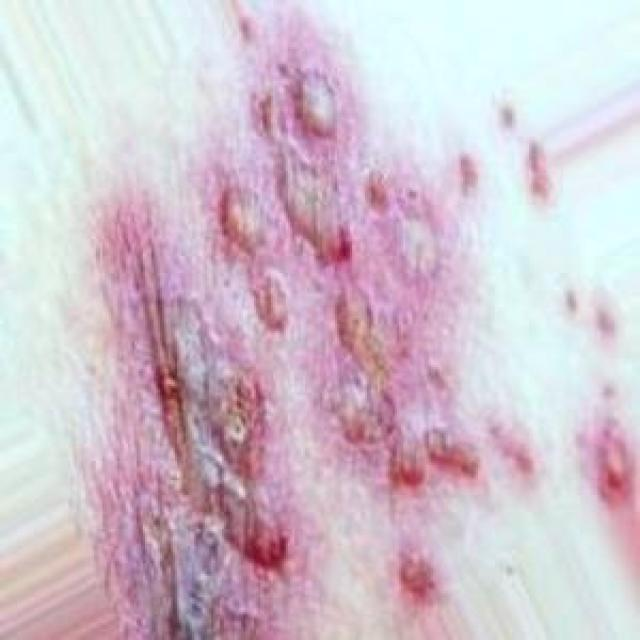Shingles: (151, 40, 534, 638)
